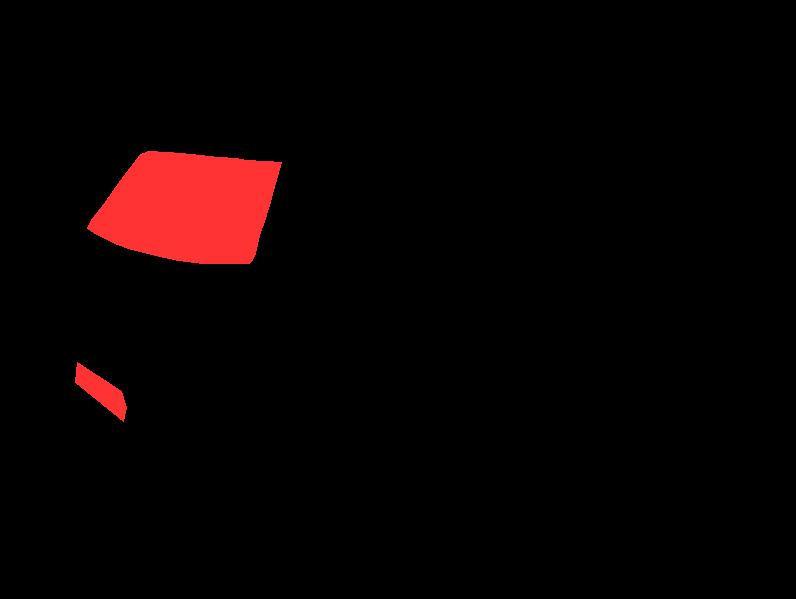Missing part: (87, 151, 281, 263), (75, 362, 126, 421)
